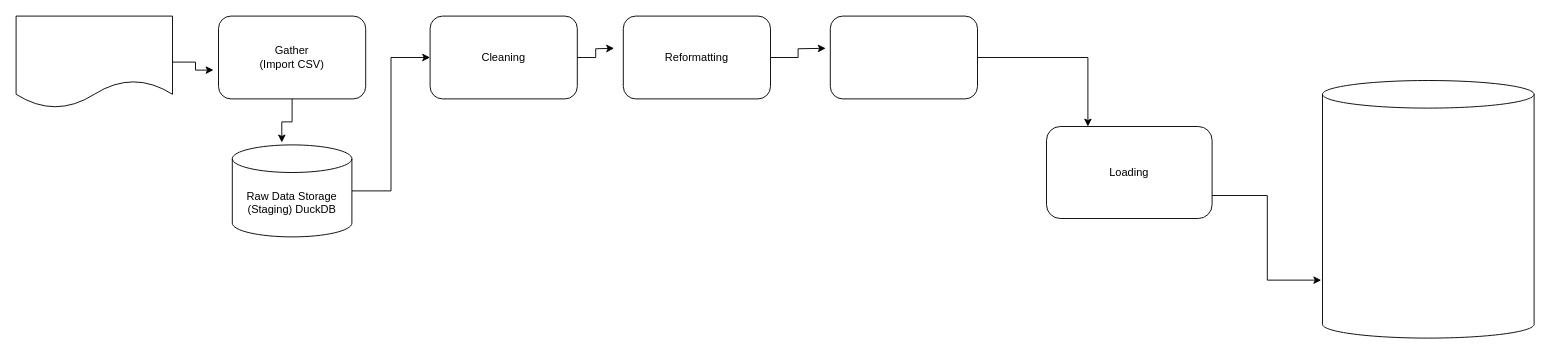
This 1550x354 diagram has some shape labels left out. Each missing label, with the box of its shape:
DuckDB Data Warehouse: (1322, 80, 1534, 338)
OTC Market Data (CSV File): (15, 15, 172, 108)
Transforming: (829, 15, 978, 99)
